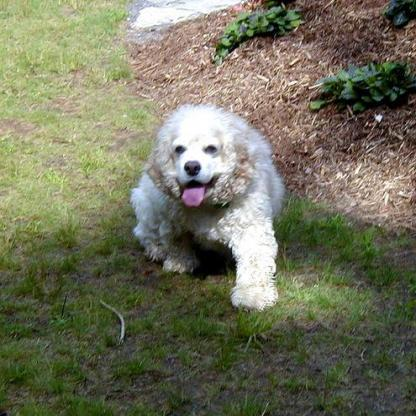cocker_spaniel: (127, 99, 285, 310)
